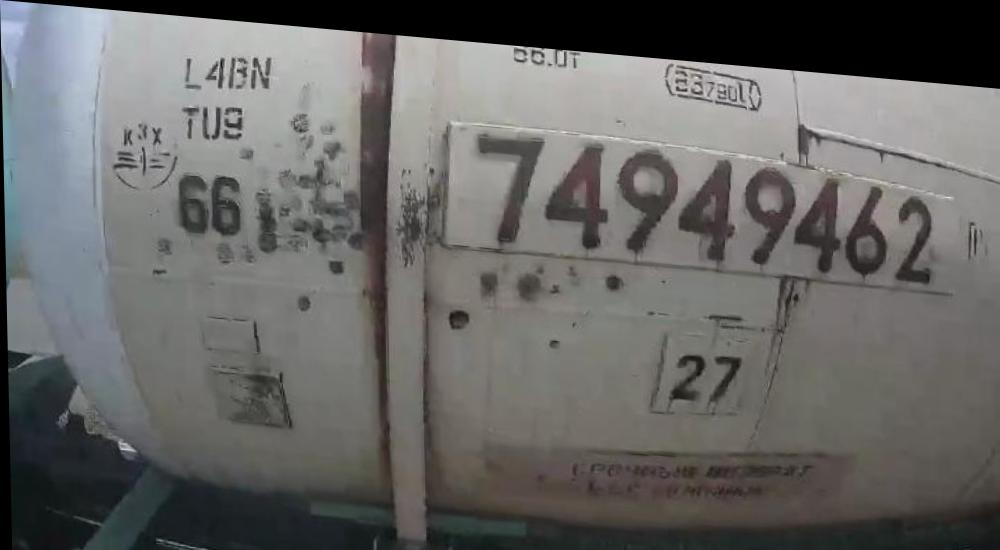Wagon-number: (470, 116, 934, 272)
